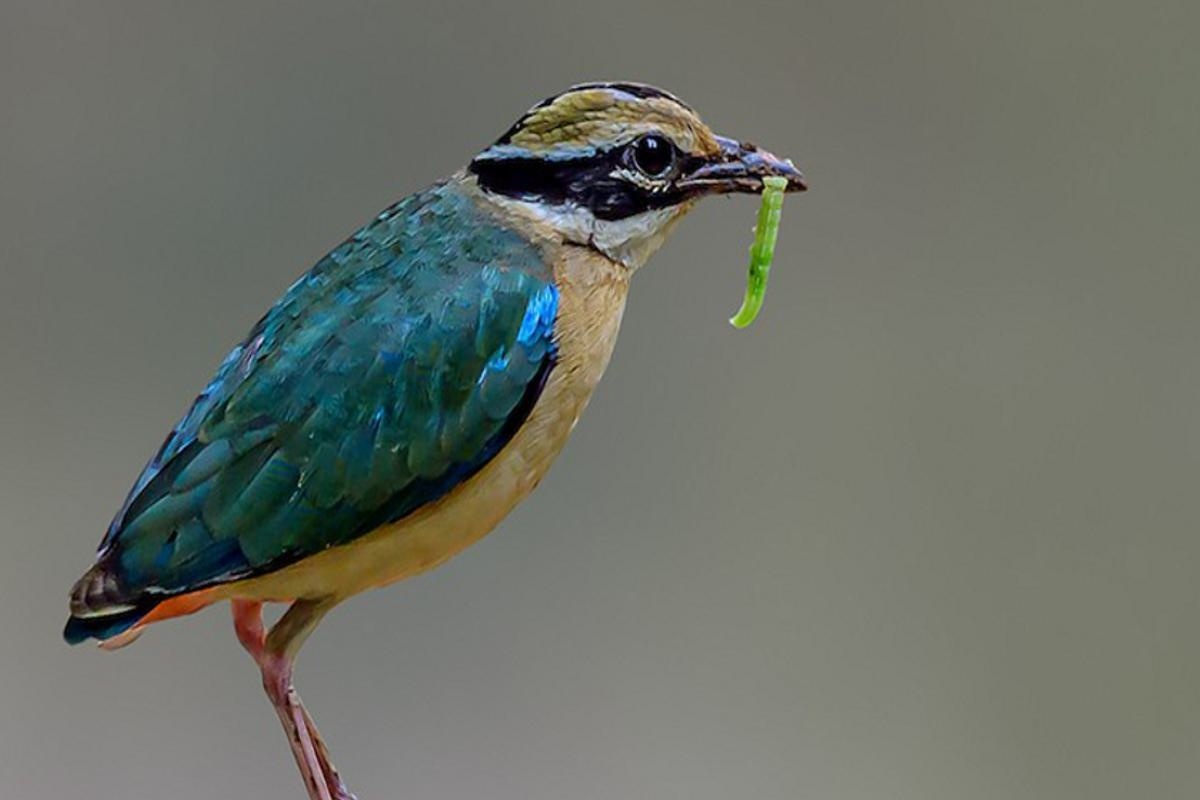pitta: (71, 60, 844, 720)
